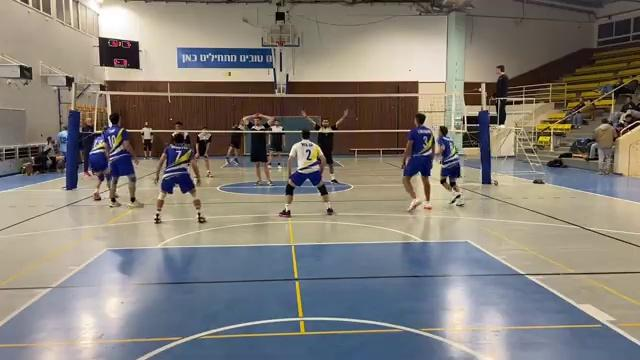ball: (221, 70, 238, 81)
